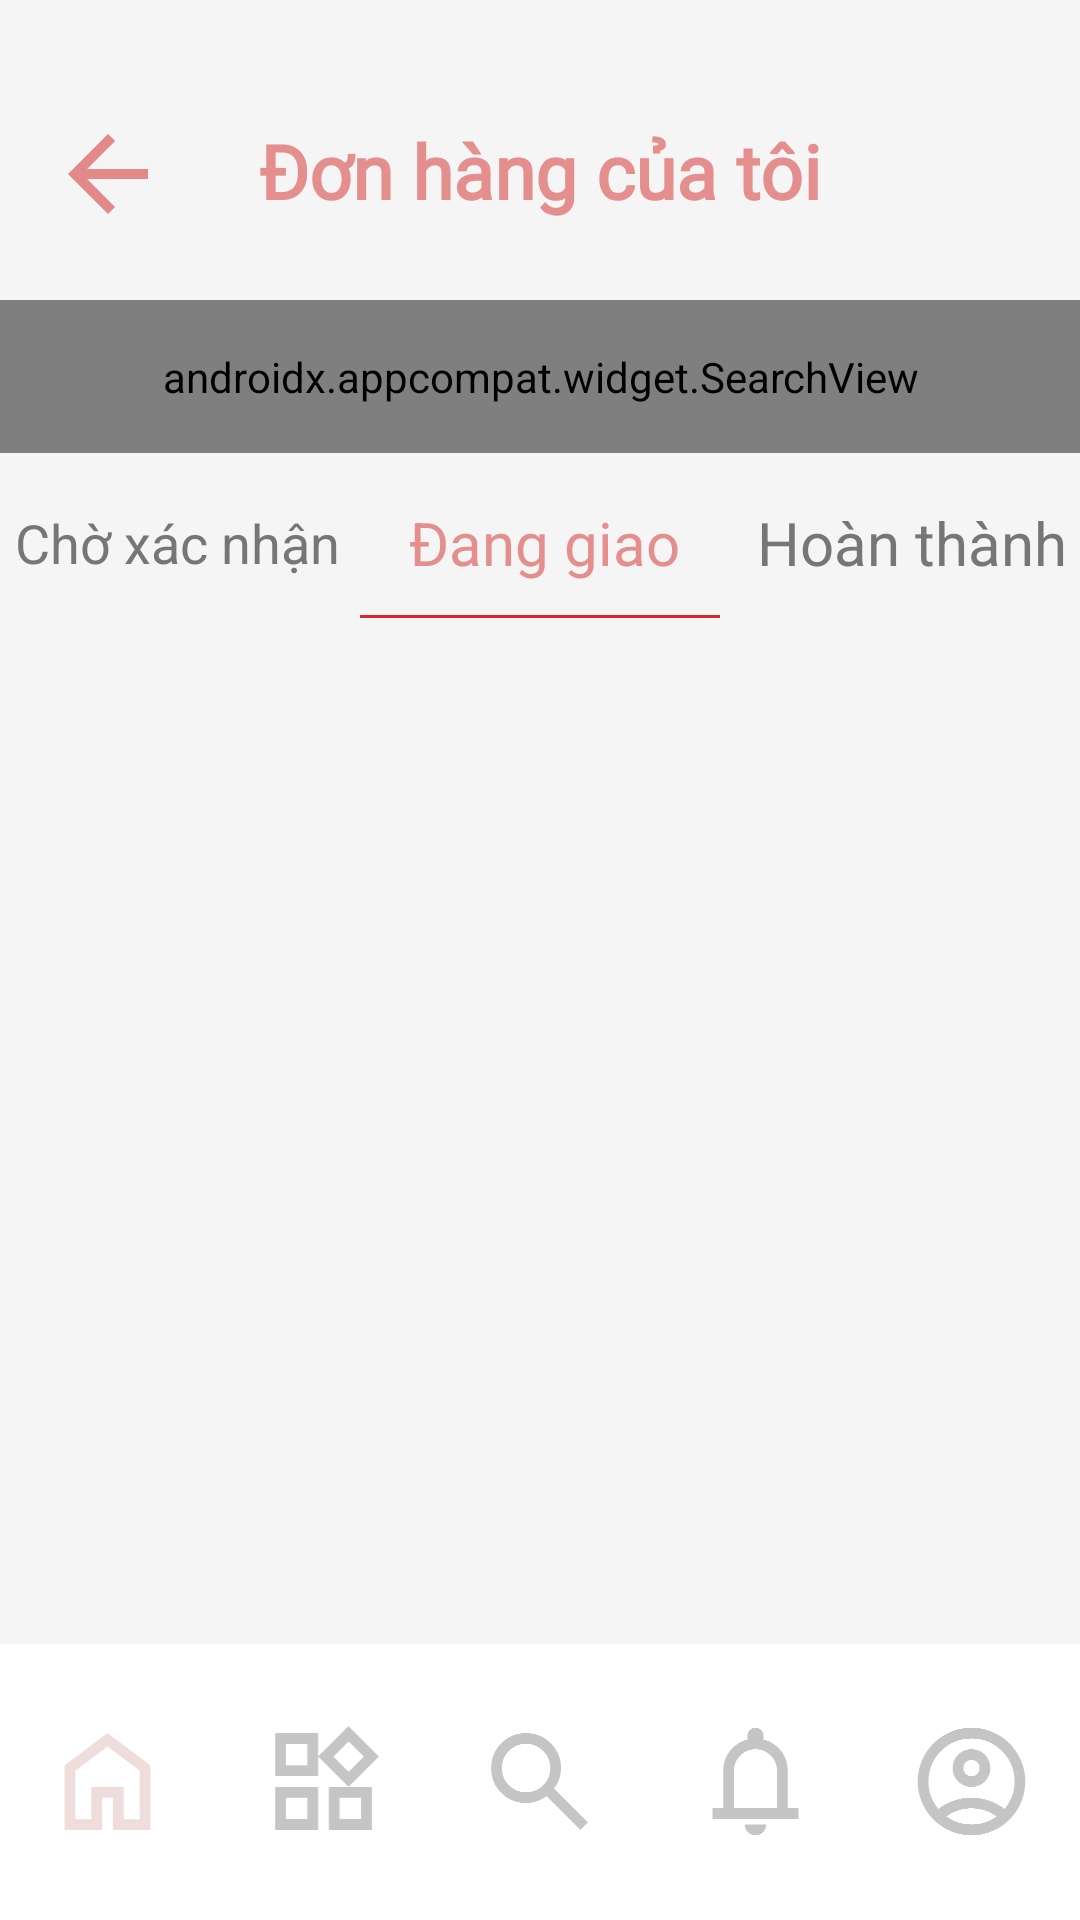

Icons on this 1080px×1920px Android screen, each with the point to tap as point (x, y):
arrow back: point (108, 174)
